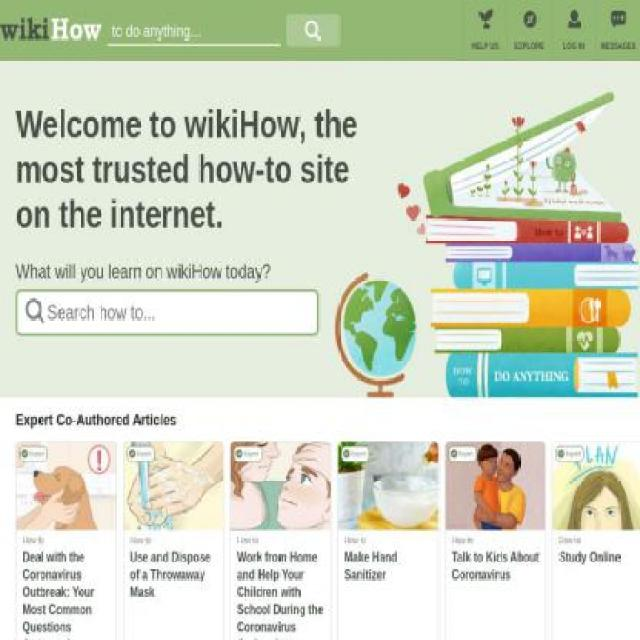button: (337, 441, 439, 640), (444, 441, 546, 640), (16, 441, 117, 640), (123, 441, 224, 640), (230, 441, 331, 640), (552, 441, 639, 640)
field: (47, 292, 318, 333), (108, 14, 280, 46), (26, 296, 45, 326)
